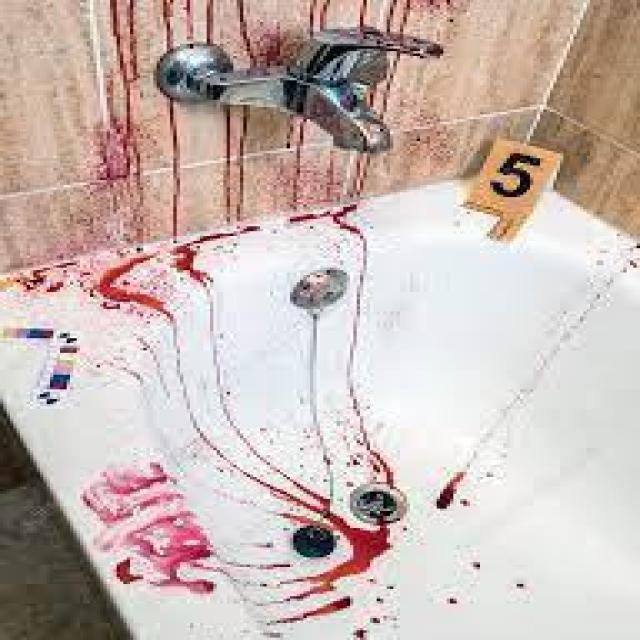flood: (91, 9, 417, 322), (94, 450, 414, 640)
